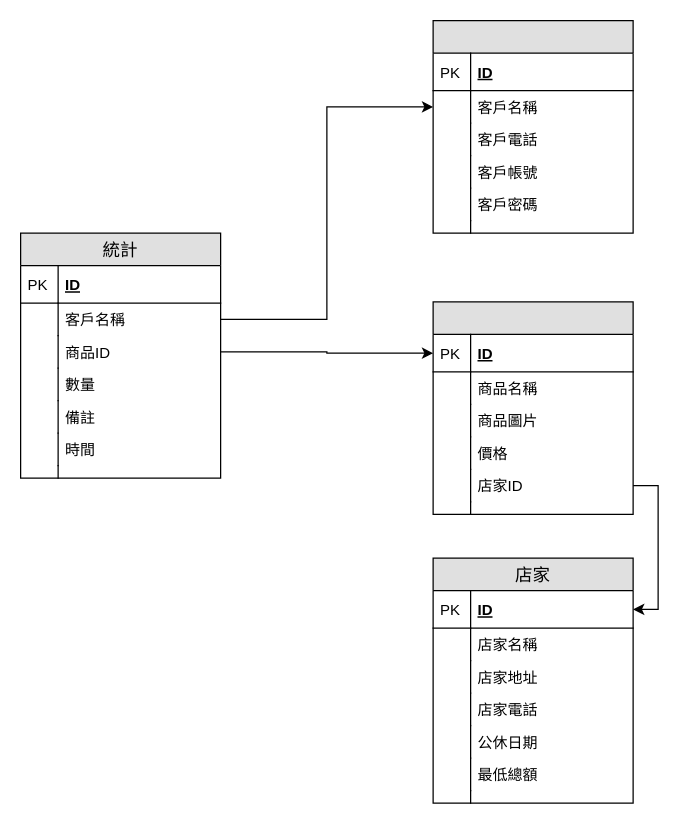
The diagram is 679 pixels wide and 824 high, and some of its shapes have lost their labels. The box of each missing label's shape, as (x1, y1, x2, y2) in pixels:
商品: (432, 301, 633, 514)
客戶: (432, 19, 633, 233)
